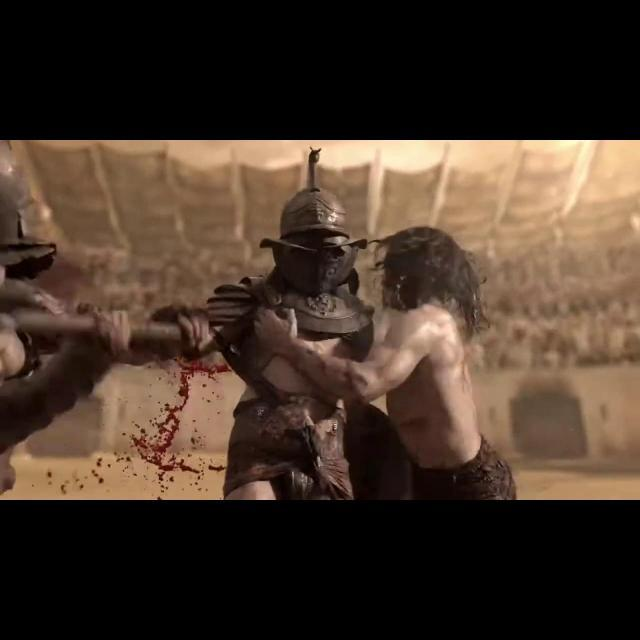blood: (24, 360, 229, 500)
